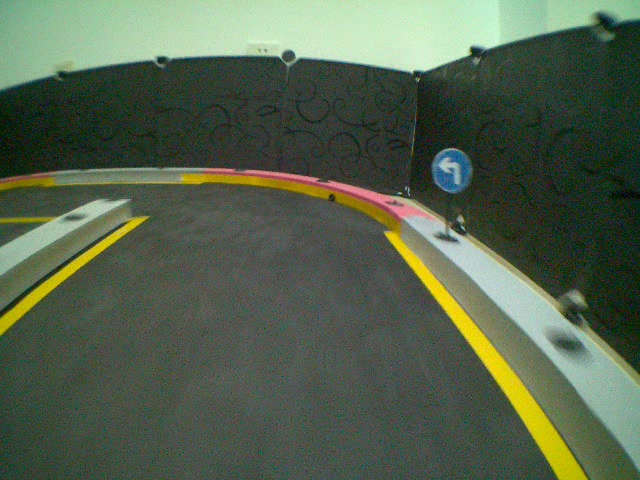turn: (429, 144, 474, 194)
